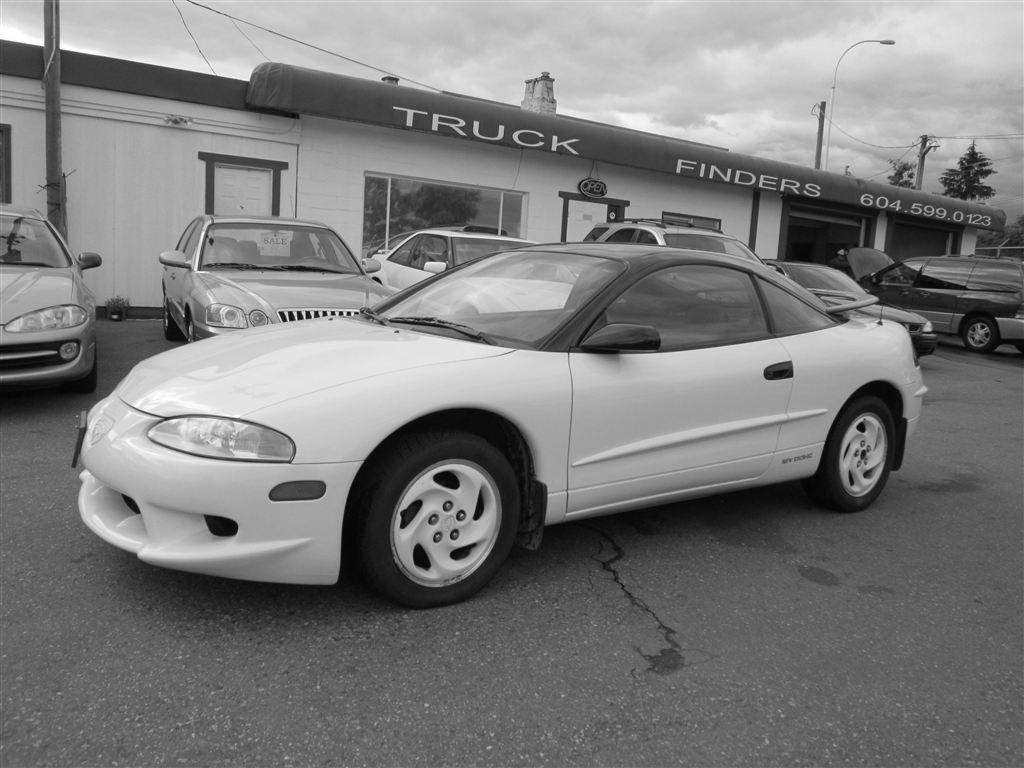car: (74, 245, 930, 613)
